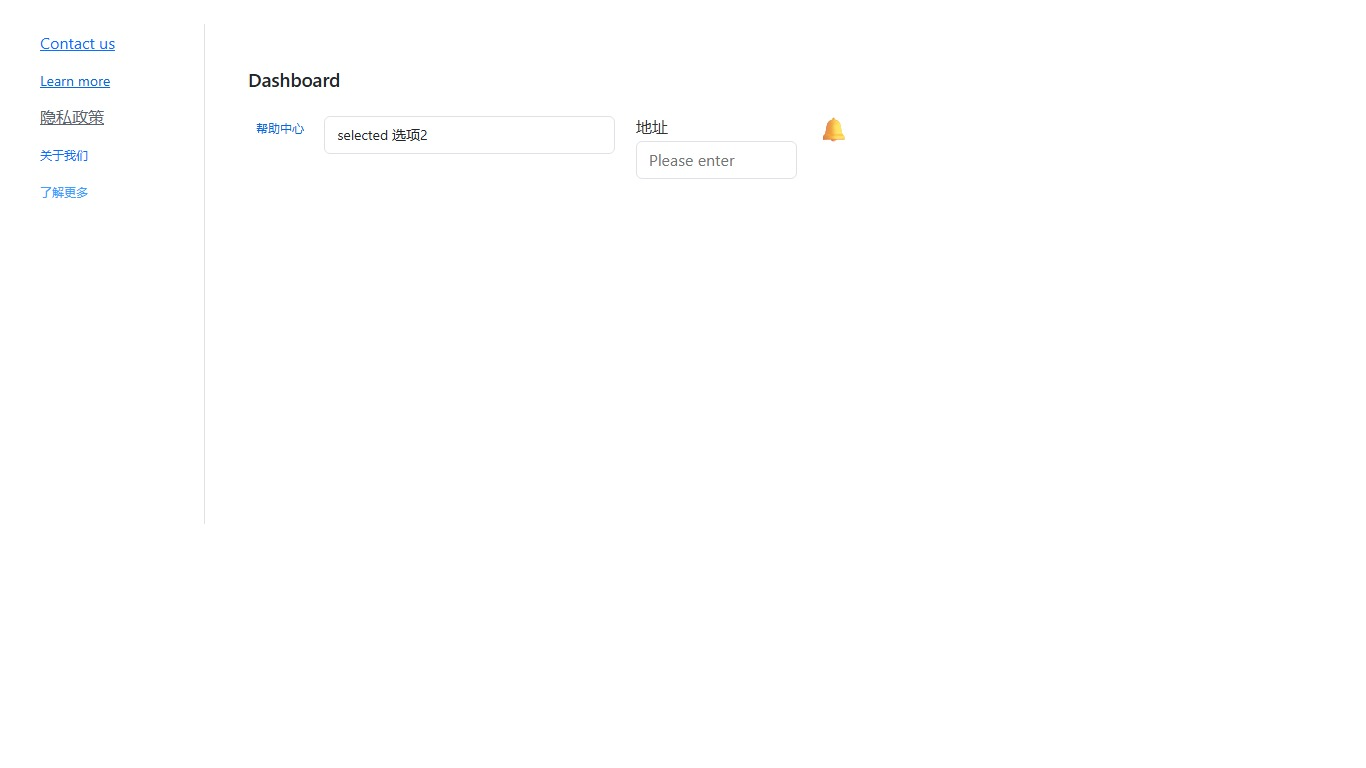icon: (817, 116, 850, 140)
input: (636, 141, 797, 179)
link: (40, 32, 115, 53), (40, 106, 104, 127), (40, 71, 110, 90), (40, 147, 88, 163), (40, 184, 88, 200), (256, 120, 304, 136)
select: (324, 116, 615, 154)
